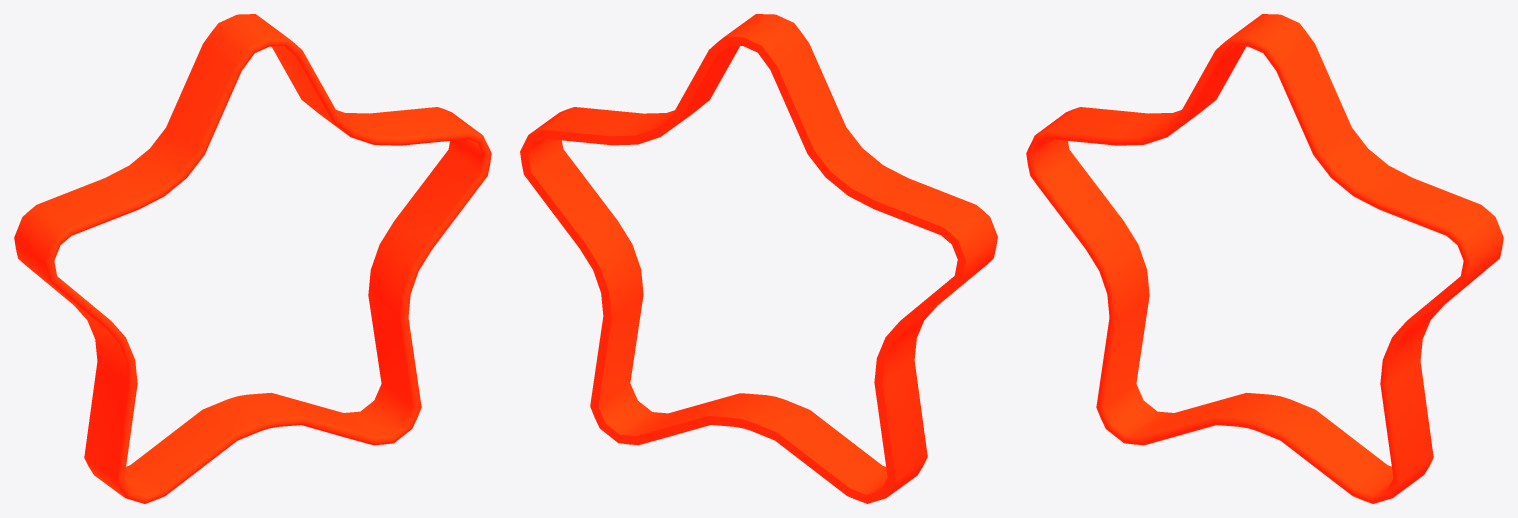
The model's file is Star Cutter.FBX.
The picture shows the model from 3 angles, left to right: view 1: azimuth 30°, elevation 25°; view 2: azimuth 150°, elevation 25°; view 3: azimuth 330°, elevation 25°; orthographic projection.
Visible parts, largest first — view 1: Star Cutter; view 2: Star Cutter; view 3: Star Cutter.
Part boxes in pixels (box(x1,y1,x2,y2)): Star Cutter: box(14, 14, 491, 503); Star Cutter: box(520, 14, 997, 503); Star Cutter: box(1026, 14, 1503, 503).
Bounding box in the file's own units: 0.08 × 0.0748 × 0.0104.
